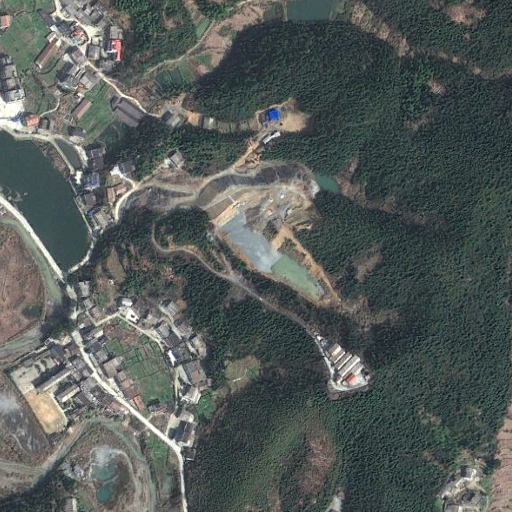tp: (210, 204, 322, 298)
